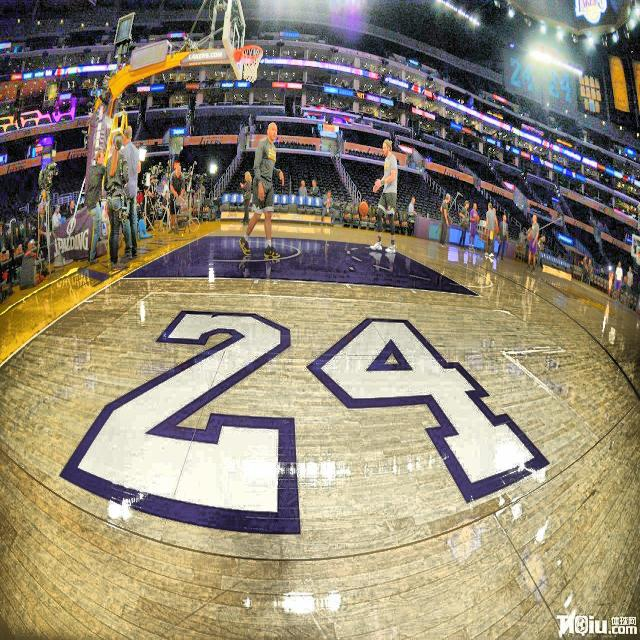rim: (242, 44, 262, 82)
